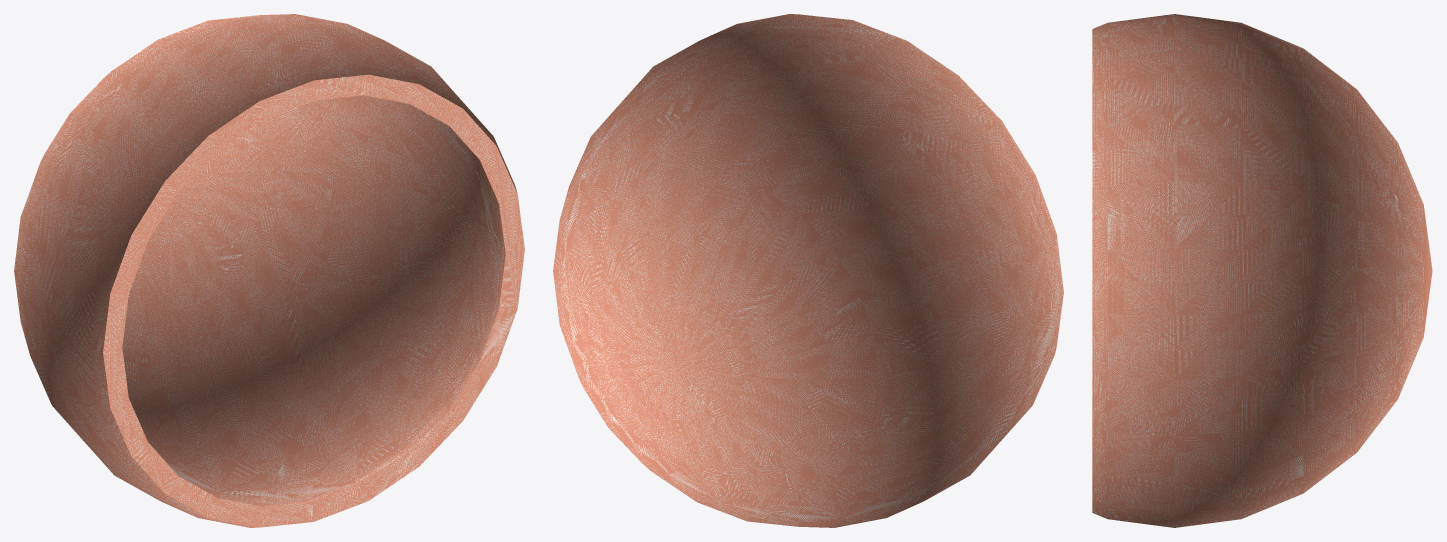
Rendered from model_align.obj.
The picture shows the model from 3 angles, left to right: view 1: azimuth 30°, elevation 25°; view 2: azimuth 150°, elevation 25°; view 3: azimuth 270°, elevation 25°; orthographic projection.
Visible parts, largest first — view 1: mesh1_mesh1-geometry; view 2: mesh1_mesh1-geometry; view 3: mesh1_mesh1-geometry.
Part boxes in pixels (x1,y1,x2,y2): mesh1_mesh1-geometry: (14,14,524,527); mesh1_mesh1-geometry: (553,14,1063,527); mesh1_mesh1-geometry: (1092,14,1432,527).
Size of the model in its own units: 0.1305 by 0.1305 by 0.086.
